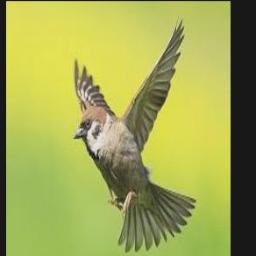Sparrow: (74, 16, 196, 253)
